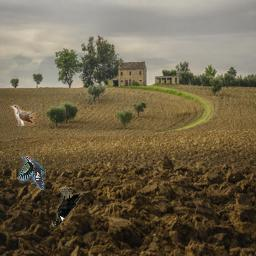Crow: (52, 187, 83, 227)
Cuckoo: (10, 103, 42, 126)
Woodpecker: (18, 156, 46, 190)
